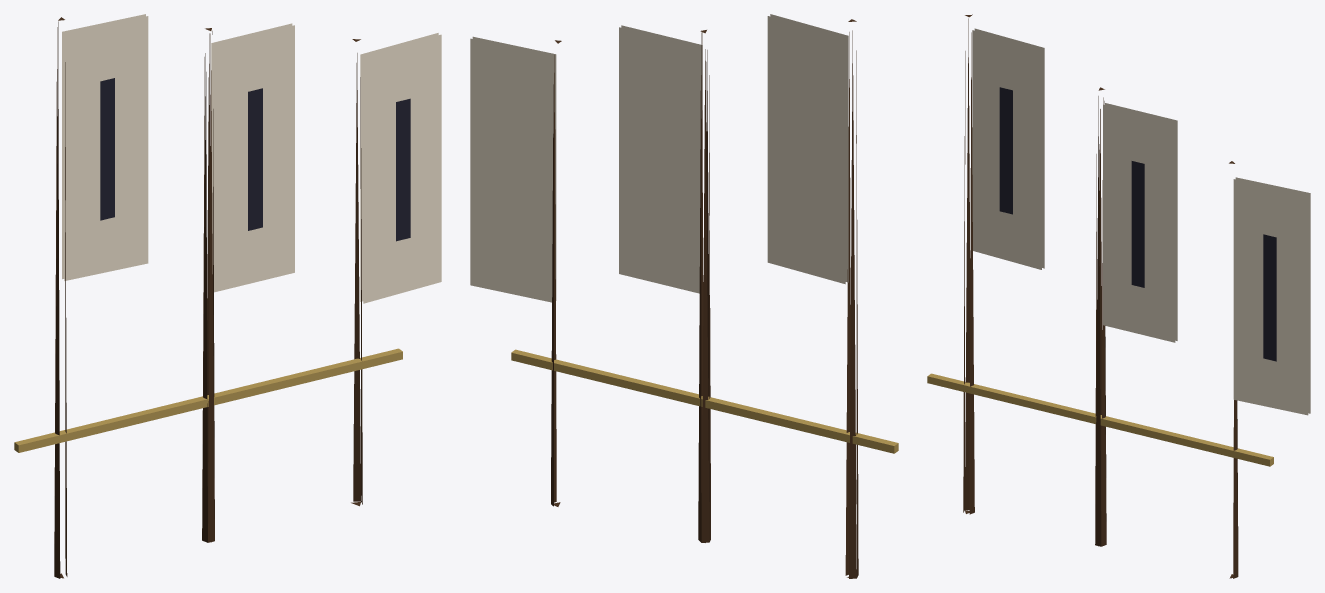
The model's file is prop_mangjang_lod1.glb.
3 views of the same model, side by side, from view 1: azimuth 30°, elevation 25°; view 2: azimuth 150°, elevation 25°; view 3: azimuth 330°, elevation 25° (orthographic). The views are drawn at different scales.
Visible parts, largest first — view 1: prop_mangjang_lod1; view 2: prop_mangjang_lod1; view 3: prop_mangjang_lod1.
Boxes of the visible parts, left/top/right/bottom form: prop_mangjang_lod1: left=14, top=14, right=441, bottom=578; prop_mangjang_lod1: left=470, top=14, right=898, bottom=578; prop_mangjang_lod1: left=927, top=14, right=1310, bottom=578.
Bounding box in the file's own units: 2.88 × 3.6 × 0.0787.
